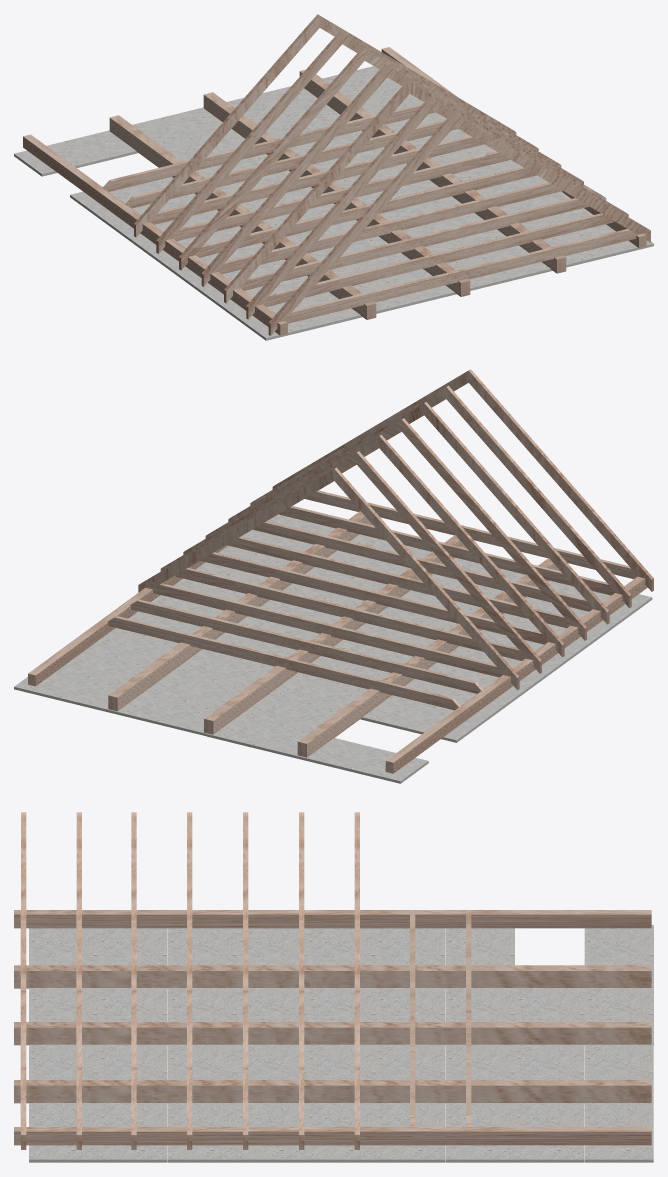
File: roof.fbx
3 renders of one model, top to bottom at view 1: azimuth 30°, elevation 25°; view 2: azimuth 150°, elevation 25°; view 3: azimuth 270°, elevation 25°, orthographic. The views are drawn at different scales.
Parts seen in each view (by area): view 1: pCube179, pCube182, pCube174, pCube183, pCube87, pCube88, pCube89, pCube85, pCube86, pCube180, pCube178, pCube177 (+43 smaller); view 2: pCube88, pCube96, pCube95, pCube97, pCube174, pCube176, pCube89, pCube86, pCube85, pCube87, pCube179, pCube180 (+42 smaller); view 3: pCube186, pCube184, pCube185, pCube79, pCube174, pCube124, pCube121, pCube135, pCube125, pCube128, pCube131, pCube136 (+37 smaller).
Part boxes in pixels (x1,y1,x2,y2): pCube179: [268, 113, 650, 335]; pCube182: [284, 229, 636, 323]; pCube174: [23, 134, 287, 335]; pCube183: [262, 213, 613, 306]; pCube87: [156, 31, 538, 253]; pCube88: [134, 14, 516, 237]; pCube89: [179, 47, 561, 270]; pCube85: [224, 80, 606, 303]; pCube86: [201, 63, 583, 286]; pCube180: [246, 96, 628, 319]; pCube178: [240, 198, 589, 290]; pCube177: [217, 182, 562, 274]; pCube88: [138, 467, 519, 690]; pCube96: [130, 599, 483, 693]; pCube95: [108, 616, 461, 710]; pCube97: [152, 583, 503, 677]; pCube174: [385, 576, 647, 773]; pCube176: [175, 567, 525, 660]; pCube89: [183, 434, 564, 657]; pCube86: [205, 418, 586, 640]; pCube85: [228, 401, 609, 624]; pCube87: [160, 451, 541, 673]; pCube179: [272, 369, 653, 591]; pCube180: [250, 385, 631, 608]; pCube186: [14, 965, 651, 988]; pCube184: [14, 1080, 651, 1103]; pCube185: [14, 1022, 651, 1045]; pCube79: [14, 1127, 651, 1145]; pCube174: [14, 910, 651, 928]; pCube124: [584, 1101, 653, 1162]; pCube121: [514, 1103, 583, 1162]; pCube135: [98, 1103, 167, 1162]; pCube125: [445, 1103, 514, 1162]; pCube128: [376, 1103, 445, 1162]; pCube131: [306, 1103, 376, 1162]; pCube136: [168, 1103, 237, 1162].
Size of the model in its own units: 0.1999 by 0.0905 by 0.2305.
2 materials, 2 textured.
